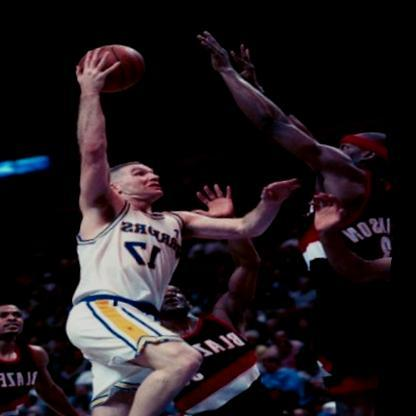basketball: (75, 31, 156, 98)
